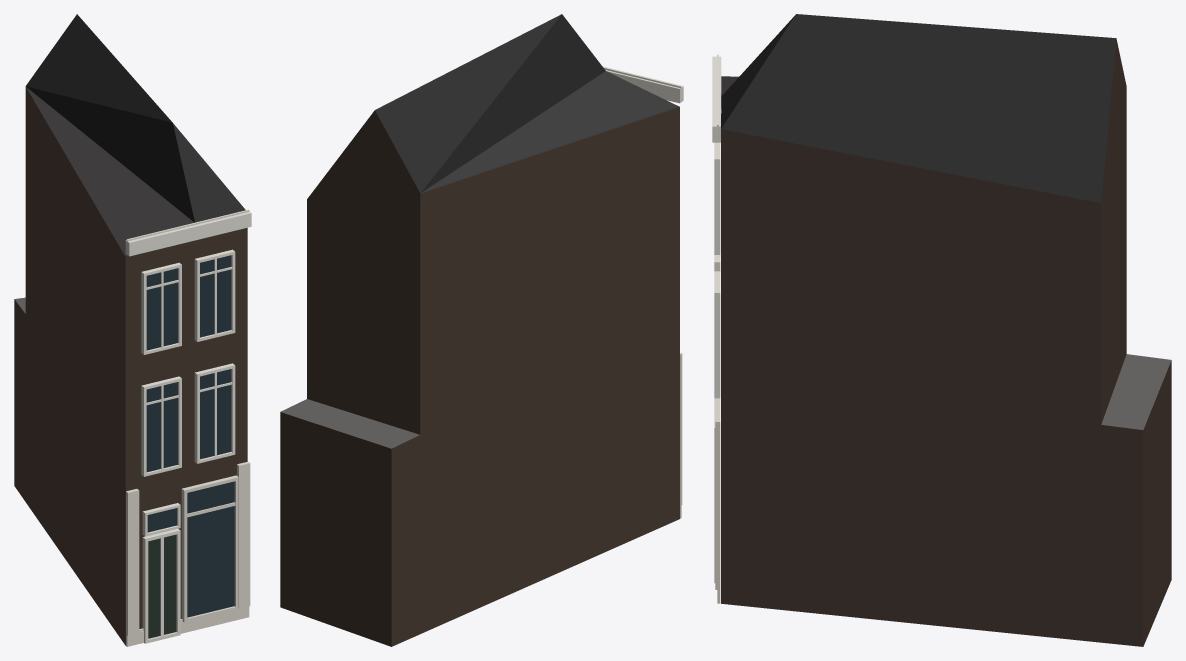
3 renders of one model, left to right at view 1: azimuth 30°, elevation 25°; view 2: azimuth 150°, elevation 25°; view 3: azimuth 270°, elevation 25°, orthographic. The views are drawn at different scales.
Parts seen in each view (by area): view 1: spec-0363100012182364; view 2: spec-0363100012182364; view 3: spec-0363100012182364.
Part boxes in pixels (<box>): spec-0363100012182364: <box>14,14,251,646</box>; spec-0363100012182364: <box>280,14,683,646</box>; spec-0363100012182364: <box>712,14,1171,646</box>.
Bounding box in the file's own units: 5.32 × 12.38 × 9.12.
